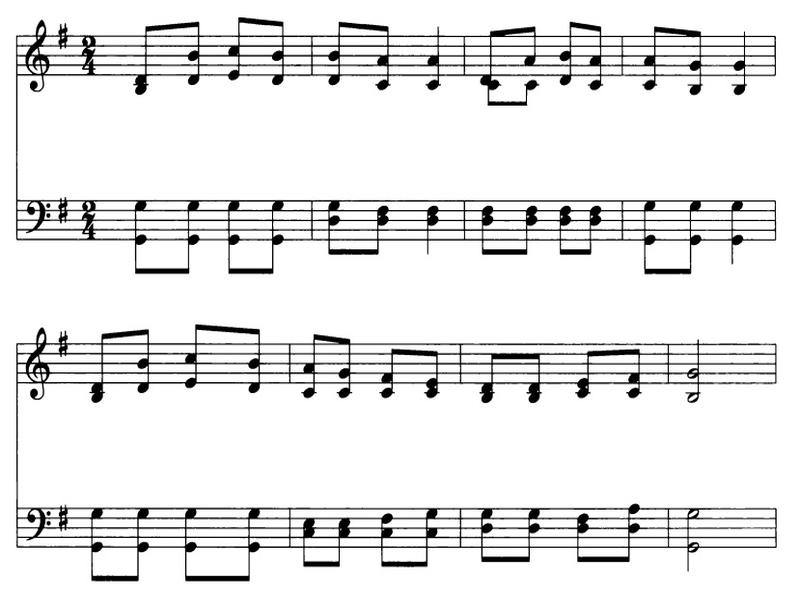B: (681, 327, 716, 416), (672, 502, 711, 579), (682, 318, 708, 384), (679, 538, 705, 577), (677, 505, 702, 537), (686, 386, 707, 414)
C: (227, 318, 271, 399), (230, 502, 269, 588), (126, 498, 161, 589), (172, 503, 207, 588), (321, 16, 361, 90), (168, 199, 204, 281), (81, 497, 113, 586), (632, 194, 662, 287), (515, 504, 556, 570), (217, 7, 252, 83), (264, 14, 297, 94), (613, 495, 648, 568), (90, 316, 119, 404), (369, 19, 399, 102), (129, 14, 157, 102), (179, 315, 211, 391), (218, 201, 247, 284), (257, 201, 284, 283), (412, 495, 440, 571), (129, 200, 154, 285), (642, 15, 668, 95), (567, 343, 601, 404), (297, 332, 326, 402), (181, 11, 207, 87), (517, 348, 550, 407), (474, 203, 505, 264), (135, 321, 160, 395), (472, 497, 499, 565), (477, 350, 507, 410), (374, 500, 398, 574), (328, 332, 354, 399), (619, 344, 647, 406), (682, 198, 701, 285), (573, 506, 600, 567), (377, 340, 402, 405), (556, 18, 578, 91), (328, 513, 357, 567), (586, 20, 607, 94), (579, 204, 601, 274), (417, 343, 442, 404), (684, 24, 704, 100), (361, 203, 387, 259), (517, 204, 542, 259), (553, 205, 575, 266), (481, 24, 501, 84), (321, 201, 342, 258), (521, 15, 542, 71), (299, 514, 317, 572), (517, 78, 538, 113), (489, 83, 501, 104)
CF: (21, 501, 52, 557), (22, 192, 51, 247)
CS: (21, 319, 51, 404), (21, 12, 49, 100)
N: (726, 4, 761, 99), (417, 14, 450, 101), (413, 191, 454, 259), (727, 193, 747, 265), (733, 27, 754, 68), (727, 233, 745, 269), (727, 199, 741, 226)
SOS: (49, 195, 75, 230), (55, 326, 75, 367), (53, 20, 71, 53), (56, 504, 71, 539)
